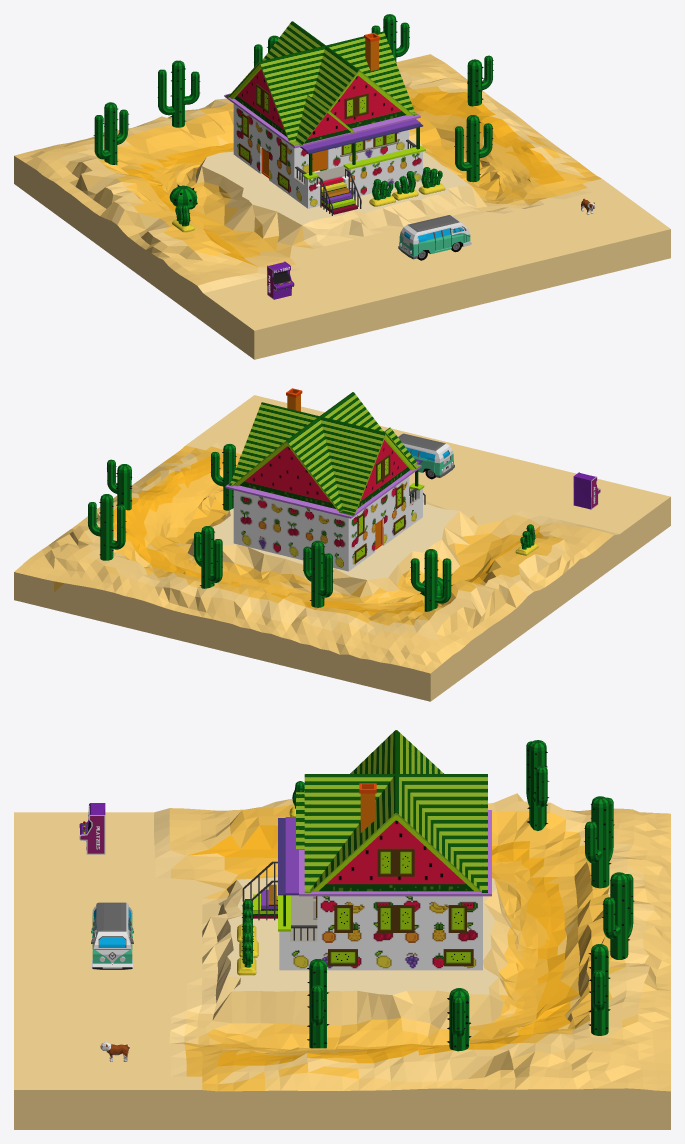
The picture shows the model from 3 angles, top to bottom: view 1: azimuth 30°, elevation 25°; view 2: azimuth 150°, elevation 25°; view 3: azimuth 270°, elevation 25°; orthographic projection. The views are drawn at different scales.
Visible parts, largest first — view 1: Cube.001, Cube.1063, VEHICLES_VAN, Cylinder.037, Cylinder.044, Cylinder.045, Cylinder.038, Cylinder.042, OBJRANDOM_ARCADE, Cylinder.039, Cylinder.041, Sphere.023 (+1 smaller); view 2: Cube.001, Cube.1063, Cylinder.042, Cylinder.045, VEHICLES_VAN, Cylinder.044, Cylinder.043, Cylinder.037, Cylinder.038, OBJRANDOM_ARCADE; view 3: Cube.001, Cube.1063, VEHICLES_VAN, Cylinder.043, Cylinder.044, Cylinder.045, Cylinder.042, Cylinder.037, Cylinder.038, OBJRANDOM_ARCADE, Cylinder.041.
Boxes of the visible parts, x1,y1,x2,y2 form: Cube.001: (14,54,670,359); Cube.1063: (224,21,425,215); VEHICLES_VAN: (398,215,471,260); Cylinder.037: (454,115,493,182); Cylinder.044: (157,60,200,127); Cylinder.045: (93,102,129,164); Cylinder.038: (467,55,493,106); Cylinder.042: (371,14,409,62); OBJRANDOM_ARCADE: (267,261,294,299); Cylinder.039: (369,179,395,206); Cylinder.041: (418,167,445,194); Sphere.023: (169,184,197,209); Cube.001: (14,395,670,701); Cube.1063: (225,388,425,571); Cylinder.042: (88,494,126,560); Cylinder.045: (410,549,452,611); VEHICLES_VAN: (398,433,454,479); Cylinder.044: (303,540,333,607); Cylinder.043: (193,526,222,588); Cylinder.037: (211,444,240,510); Cylinder.038: (107,459,131,510); OBJRANDOM_ARCADE: (573,472,600,509); Cube.001: (14,793,670,1129); Cube.1063: (242,730,491,970); VEHICLES_VAN: (91,902,133,969); Cylinder.043: (602,872,634,959); Cylinder.044: (584,796,614,888); Cylinder.045: (526,740,549,830); Cylinder.042: (588,944,610,1035); Cylinder.037: (307,959,329,1048); Cylinder.038: (447,988,471,1051); OBJRANDOM_ARCADE: (79,803,105,854); Cylinder.041: (237,932,256,975).
Size of the model in its own units: 4002 by 1627 by 4001.
45 materials, 4 textured.
